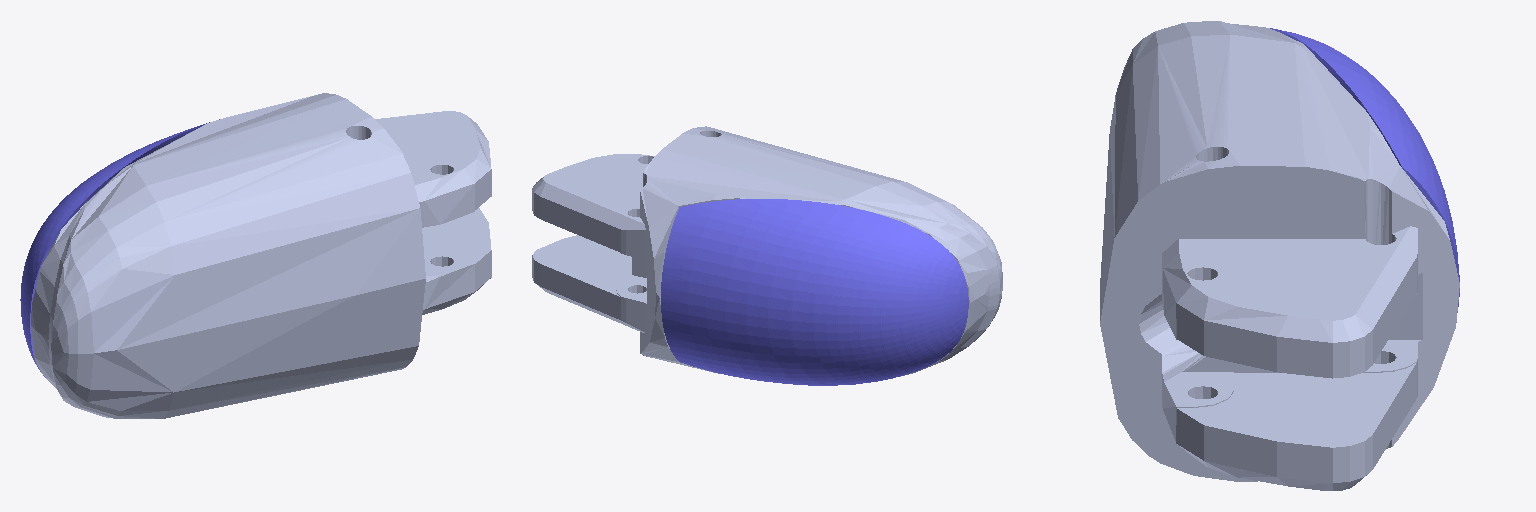
The robot description file, URDF, robot "fuck_tip":
<?xml version="1.0" encoding="utf-8"?>
<!-- This URDF was automatically created by SolidWorks to URDF Exporter! Originally created by [author] ([email redacted]) 
     Commit Version: 1.6.0-4-g7f85cfe  Build Version: 1.6.7995.38578
     For more information, please see http://wiki.ros.org/sw_urdf_exporter -->
<robot
  name="fuck_tip">
  <link
    name="gelsight_finger">
    <inertial>
      <origin
        xyz="-0.00180776618958027 0.00177993938266684 0.00831417864411829"
        rpy="0 0 0" />
      <mass
        value="0.00284210961666772" />
      <inertia
        ixx="2.24366515368193E-06"
        ixy="-2.67298502841019E-06"
        ixz="-2.95697297158136E-06"
        iyy="8.69004783480433E-06"
        iyz="-1.0673185512442E-06"
        izz="8.52480650355895E-06" />
    </inertial>
    <visual>
      <origin
        xyz="0 0 0"
        rpy="-1.5707963268 0 0" />
      <geometry>
        <mesh
          filename="../../../../../../../assets/tacsl/mesh/fingertip/gelsight_finger.STL" />
      </geometry>
      <material
        name="">
        <color
          rgba="0.792156862745098 0.819607843137255 0.933333333333333 1" />
      </material>
    </visual>
    <collision>
      <origin
        xyz="0 0 0"
        rpy="0 0 0" />
      <geometry>
        <mesh
          filename="../../../../../../../assets/tacsl/mesh/fingertip/gelsight_finger.STL" />
      </geometry>
    </collision>
  </link>

  <link name="camera_Link" />
    
  <joint
    name="tactile_camera_joint"
    type="fixed">
    <origin
      xyz="-0.0036365 0 0.0067726"
      rpy="-0.00019517 -0.95481 0.0001593" />
    <parent
      link="gelsight_finger" />
    <child
      link="camera_Link" />
    <axis
      xyz="0 0 0" />
  </joint>

  <link
    name="elastomer">
    <inertial>
      <origin
        xyz="-0.014064 1.757E-06 0.012566"
        rpy="0 0 0" />
      <mass
        value="0.00092058" />
      <inertia
        ixx="1.4869E-08"
        ixy="-6.1645E-13"
        ixz="-8.1097E-09"
        iyy="2.7055E-08"
        iyz="-2.6509E-12"
        izz="3.2852E-08" />
    </inertial>
    <visual>
      <origin
        xyz="0 0 0"
        rpy="-1.5707963268 0 0" />
      <geometry>
        <mesh
          filename="../../../../../../../assets/tacsl/mesh/fingertip/elastomerkz.STL" />
      </geometry>
      <material
        name="">
        <color
          rgba="0.5 0.5 1 1" />
      </material>
    </visual>
    <collision>
      <origin
        xyz="0 0 0"
        rpy="0 0 0" />
      <geometry>
        <mesh
          filename="../../../../../../../assets/tacsl/mesh/fingertip/elastomer.STL" />
      </geometry>
    </collision>
  </link>

  <joint
    name="elastomer_joint"
    type="fixed">
    <origin
      xyz="0 0 0"
      rpy="0 0 0" />
    <parent
      link="gelsight_finger" />
    <child
      link="elastomer" />
    <axis
      xyz="0 0 0" />
  </joint>

  <link name="elastomer_tip" />
    
  <joint
    name="elastomer_tip_joint"
    type="fixed">
    <origin
      xyz="-0.01623 0 0.01529"
      rpy="-0.00010658 -0.37247 3.8784E-05" />
    <parent
      link="gelsight_finger" />
    <child
      link="elastomer_tip" />
    <axis
      xyz="0 0 0" />
  </joint>
</robot>

--- Render facts (derived) ---
The picture shows the robot from 3 angles, left to right: view 1: azimuth 30°, elevation 25°; view 2: azimuth 150°, elevation 25°; view 3: azimuth 270°, elevation 25°; orthographic projection.
Robot: fuck_tip — 4 links, 3 joints (3 fixed); root link gelsight_finger; default pose: all joints at 0.
Links seen in each view (by area): view 1: gelsight_finger, elastomer; view 2: elastomer, gelsight_finger; view 3: gelsight_finger, elastomer.
Boxes of the visible links, bbox=[...] form: gelsight_finger: bbox=[31, 93, 491, 418]; elastomer: bbox=[20, 119, 219, 377]; elastomer: bbox=[661, 199, 968, 385]; gelsight_finger: bbox=[532, 126, 1002, 376]; gelsight_finger: bbox=[1100, 21, 1459, 490]; elastomer: bbox=[1270, 28, 1459, 306].
Bounding box of the posed robot: 0.0352 × 0.0172 × 0.0167 m (x, y, z).
2 mesh visuals loaded from 2 distinct referenced files (2 binary STL).